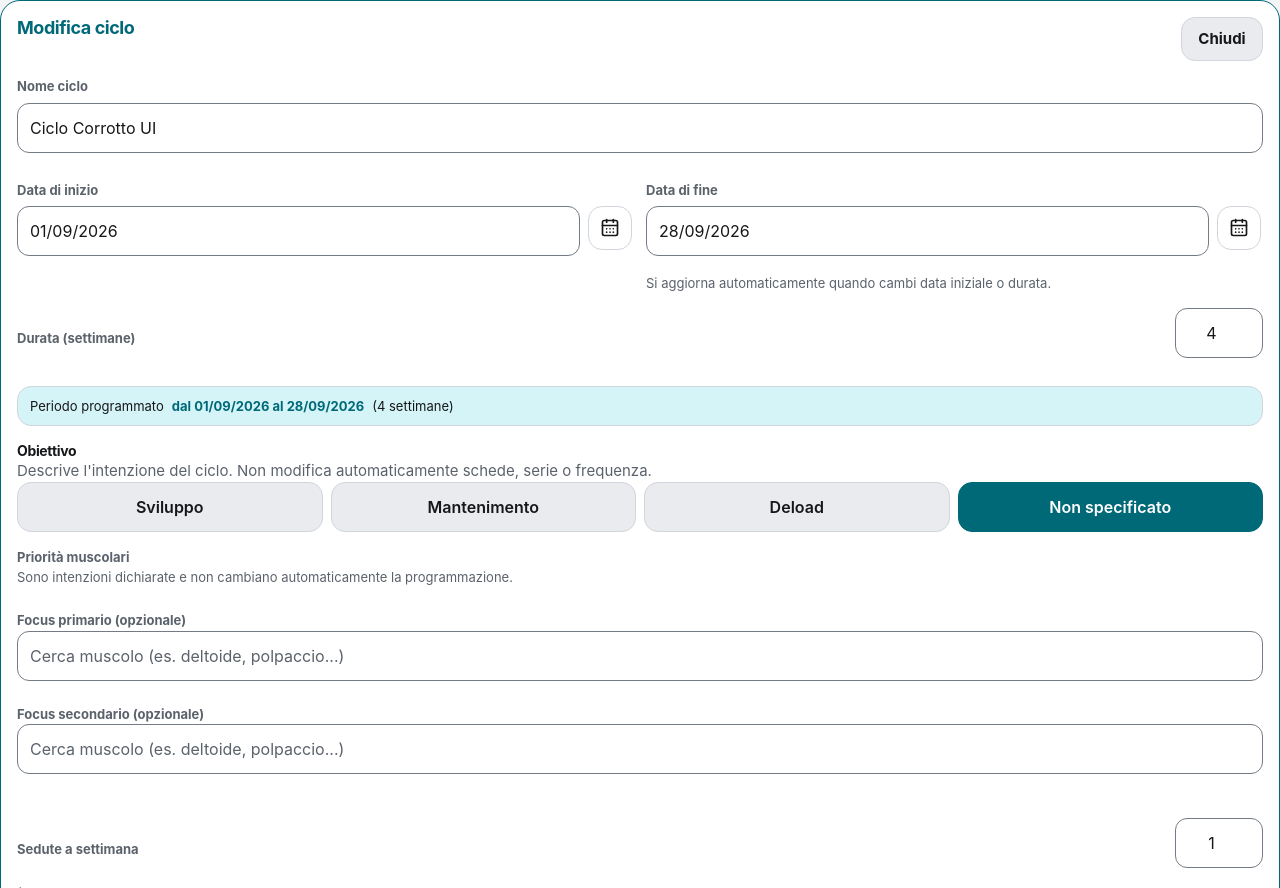
Scenario: Empirical Challenger: Training Cycles End Date & Two-Way Binding Adversarial Suite (Milestone 2 - Requirement R5) › 6. CycleEditor UI Stress & Interaction Robustness › handles malformed, gibberish and empty date inputs on blur by reverting to last valid date
Check: the field labelled "Data di fine" holds "28/09/2026", box [646,206,1209,256]
// Type garbage in startDate
Step 1. Replace the text in the field labelled "Data di inizio" with "99/99/9999-invalid" → (298, 231), box [17,206,580,256]
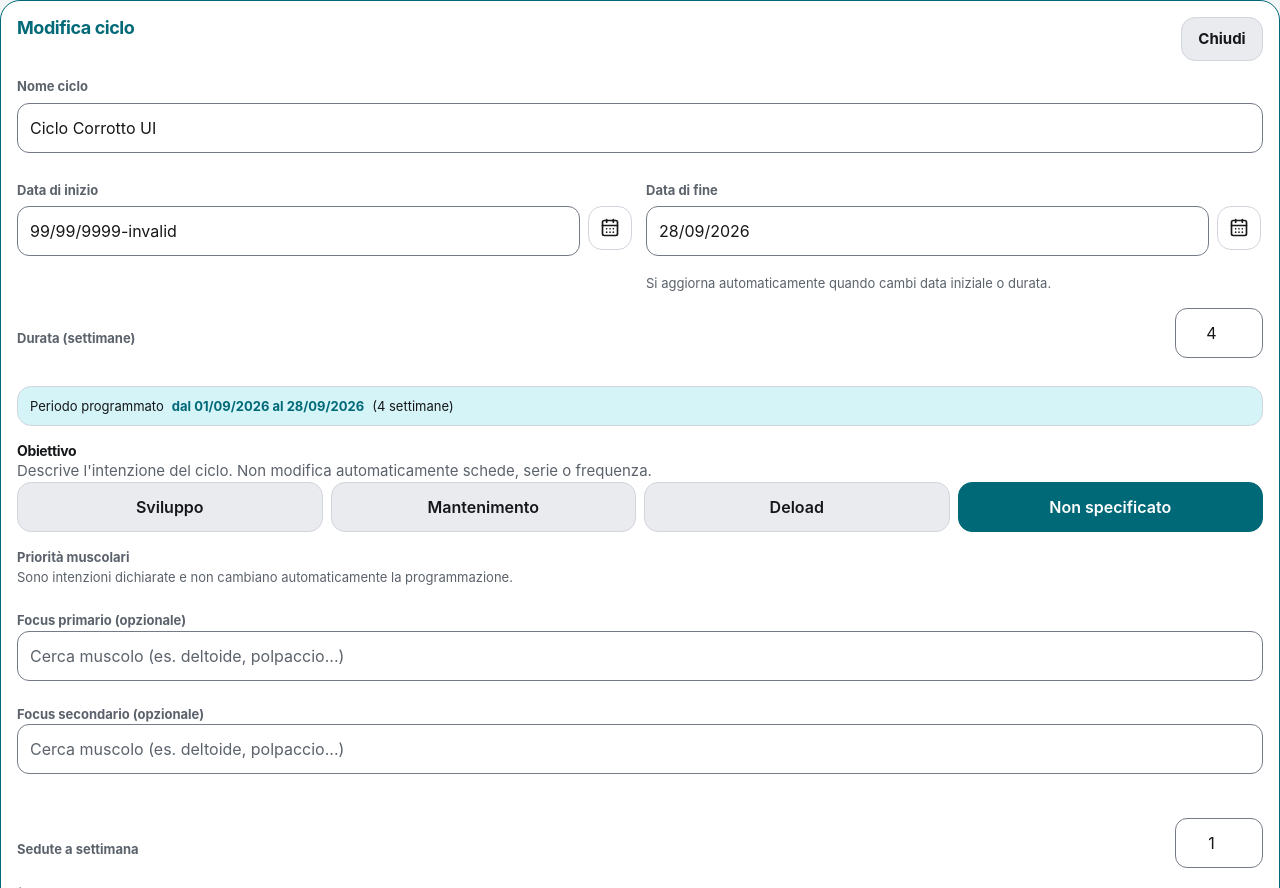
Step 2. Leave the field labelled "Data di inizio", box [17,206,580,256]
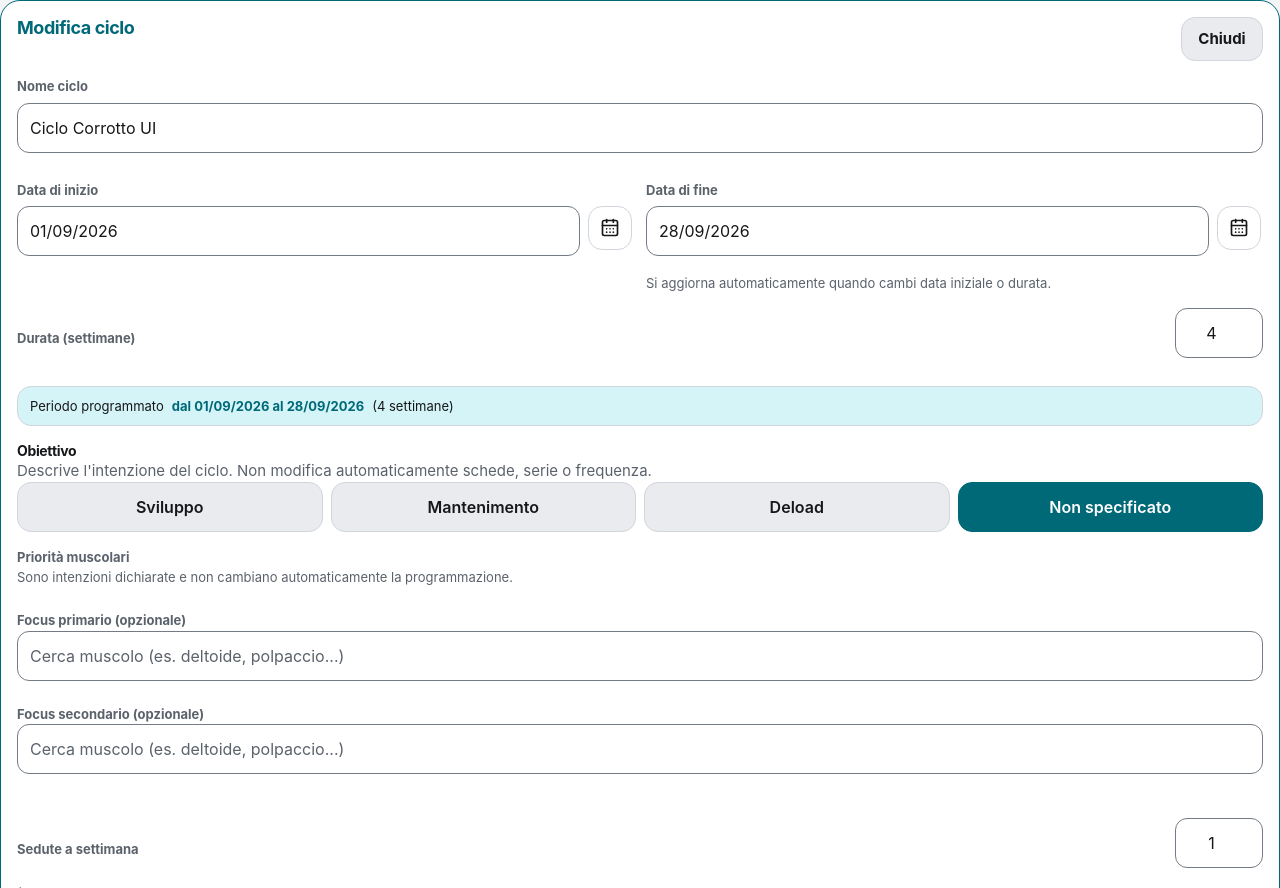
Check: the field labelled "Data di inizio" holds "01/09/2026", box [17,206,580,256]
// Type garbage in endDate
Step 3. Replace the text in the field labelled "Data di fine" with "gibberish" → (928, 231), box [646,206,1209,256]
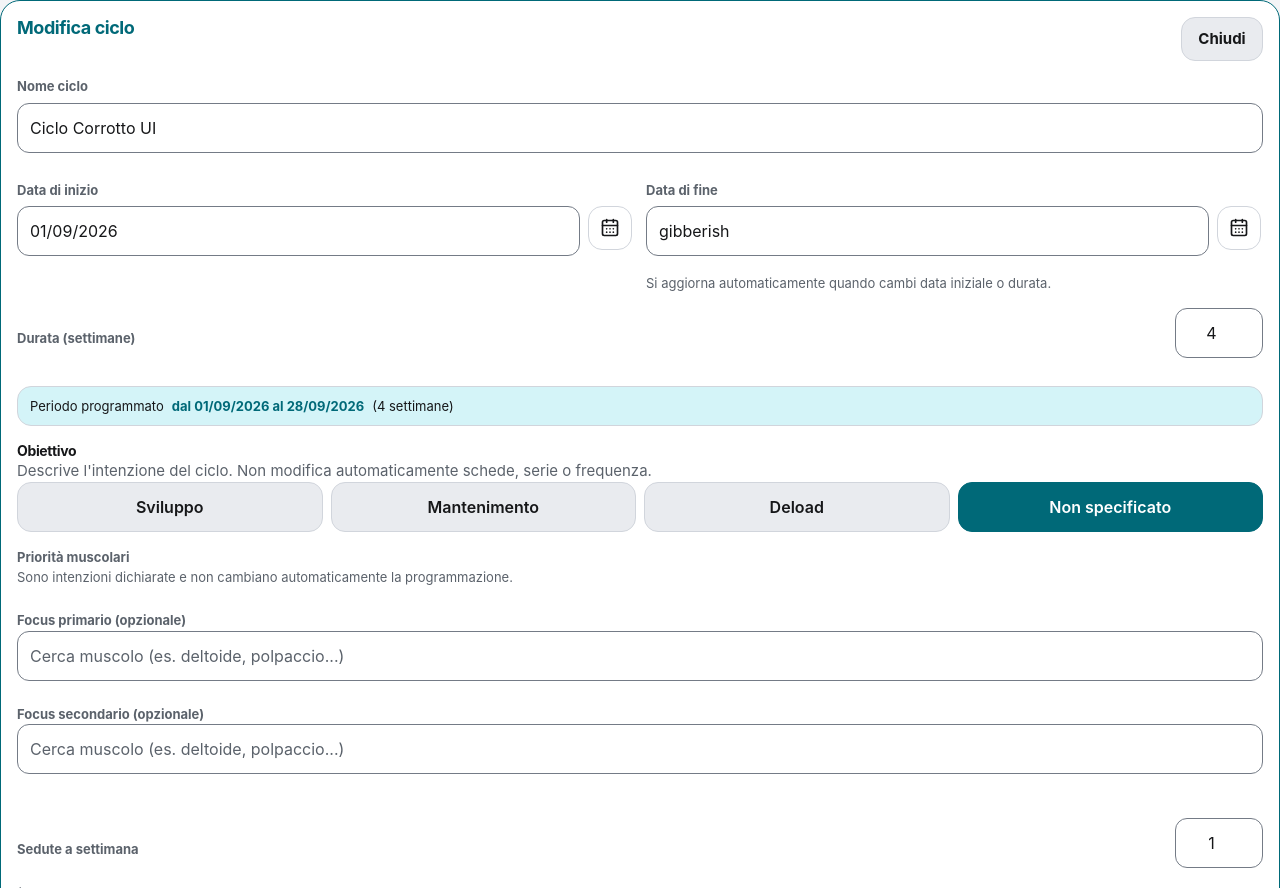
Step 4. Leave the field labelled "Data di fine", box [646,206,1209,256]
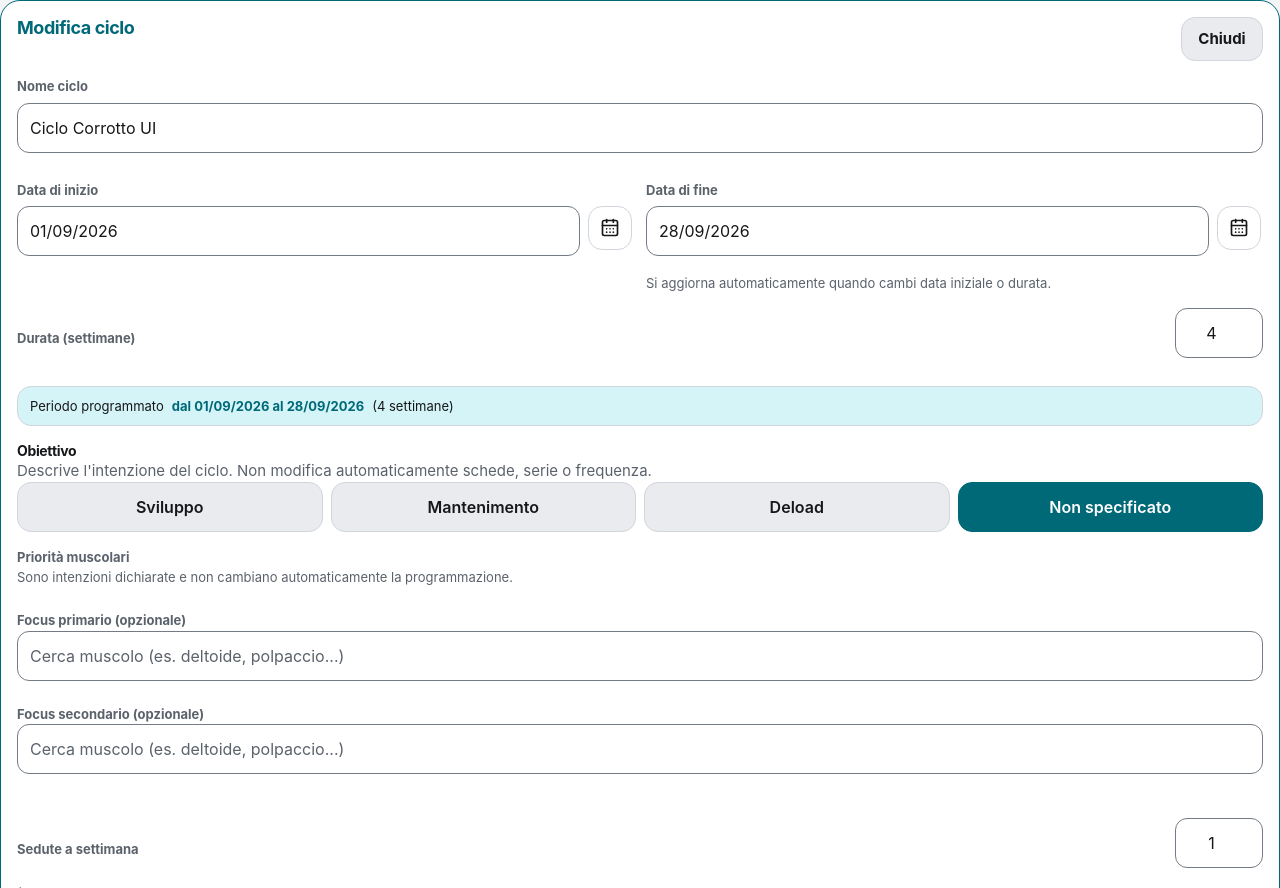
Check: the field labelled "Data di fine" holds "28/09/2026", box [646,206,1209,256]
